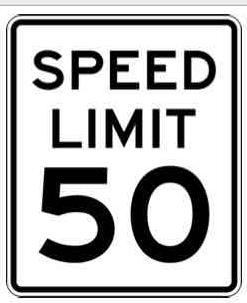Speed Limit -50-: (0, 1, 246, 302)
